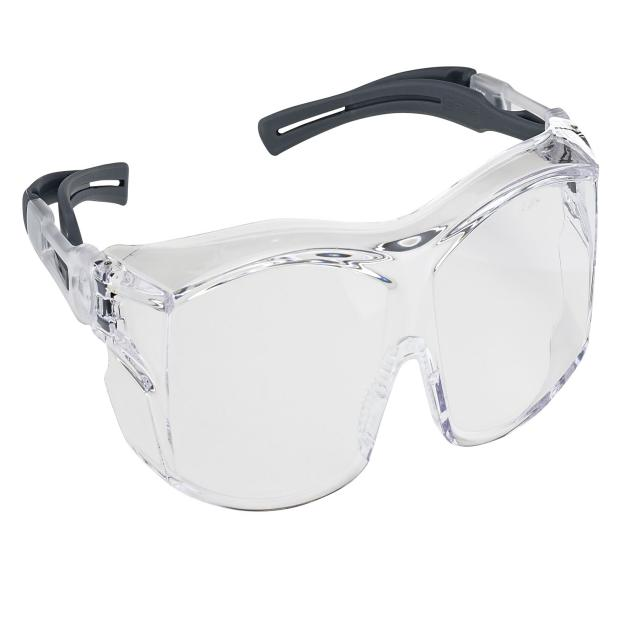Protective Glasses: (0, 56, 640, 530)
